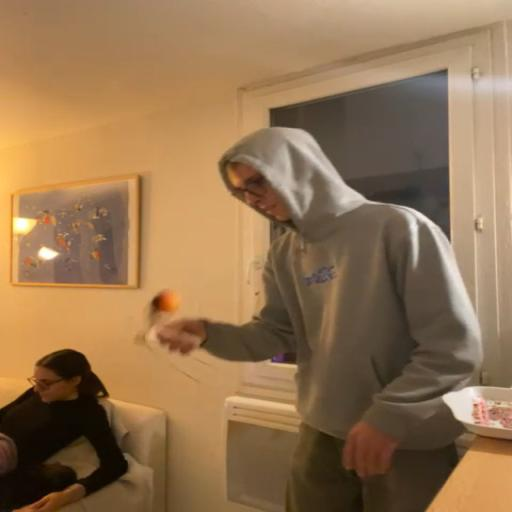kendama_ball: (150, 289, 180, 316)
